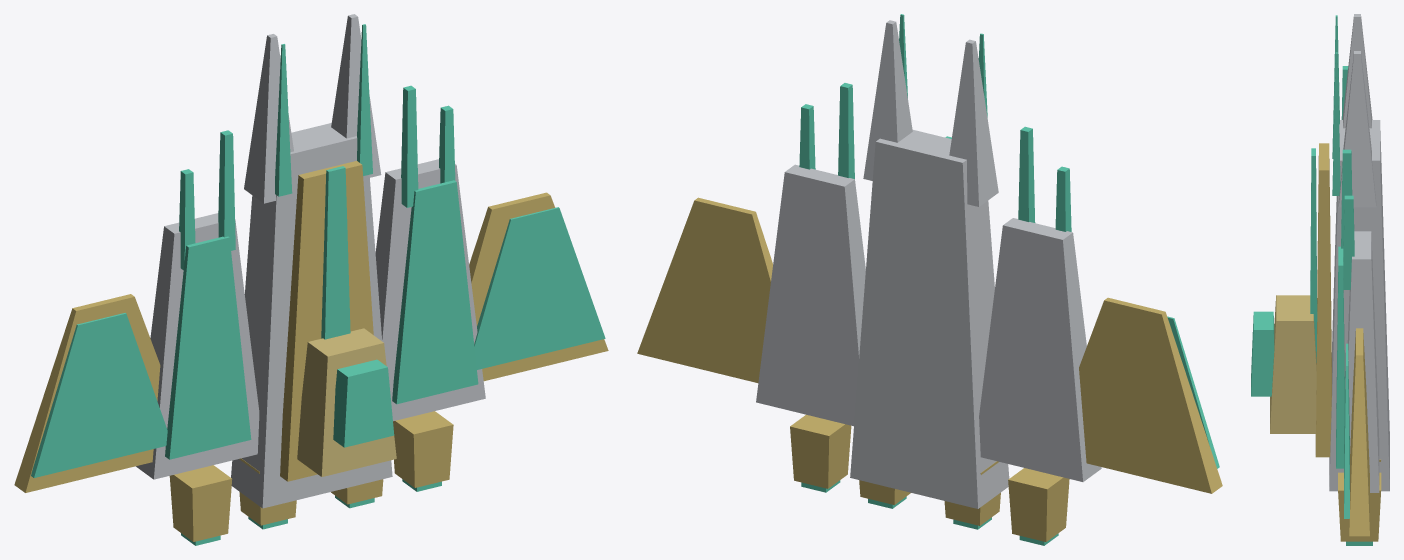
File: ship_valkyrie_prime.glb
3 renders of one model, left to right at view 1: azimuth 30°, elevation 25°; view 2: azimuth 150°, elevation 25°; view 3: azimuth 270°, elevation 25°, orthographic. The views are drawn at different scales.
Parts seen in each view (by area): view 1: BattleshipHull; view 2: BattleshipHull; view 3: BattleshipHull.
Boxes of the visible parts, x1,y1,x2,y2 form: BattleshipHull: (14, 14, 608, 545); BattleshipHull: (637, 14, 1222, 545); BattleshipHull: (1251, 14, 1389, 545).
Bounding box in the file's own units: 6.06 × 4.82 × 1.33.
